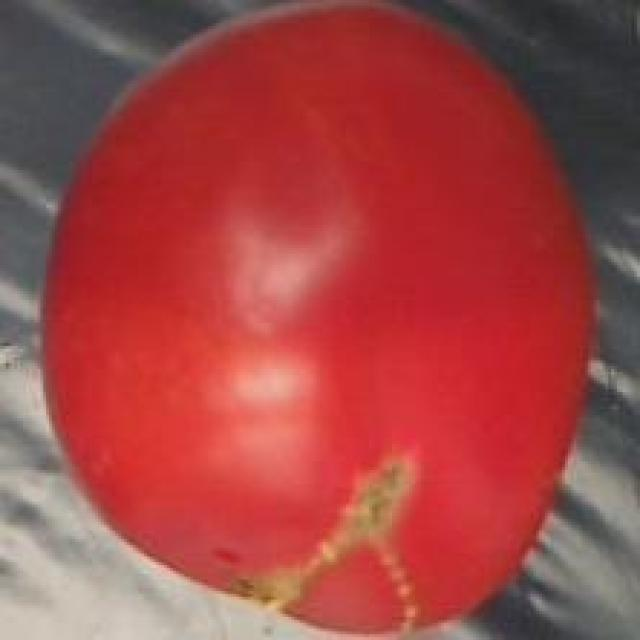overripe tomato: (35, 0, 611, 640)
